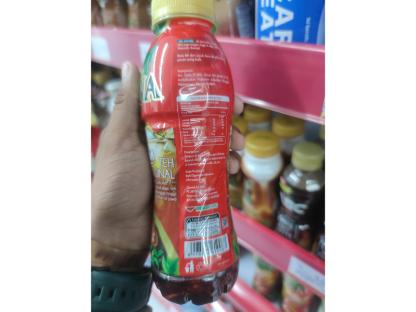Plastic Bottle: (138, 0, 242, 304)
